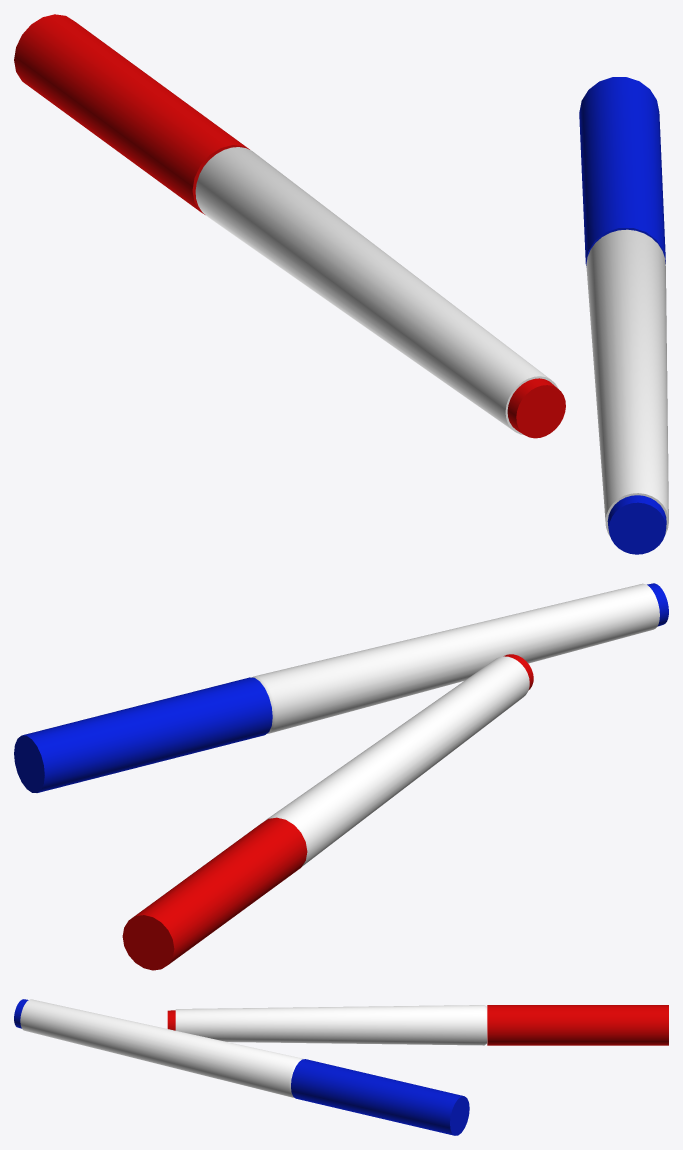
Rendered from Markers.FBX.
3 views of the same model, one above another, from view 1: azimuth 30°, elevation 25°; view 2: azimuth 150°, elevation 25°; view 3: azimuth 270°, elevation 25° (orthographic). The views are drawn at different scales.
Visible parts, largest first — view 1: Marker 1, Marker 2; view 2: Marker 2, Marker 1; view 3: Marker 1, Marker 2.
Boxes of the visible parts, bbox=[...] form: Marker 1: bbox=[14, 14, 565, 438]; Marker 2: bbox=[579, 77, 668, 554]; Marker 2: bbox=[14, 583, 668, 792]; Marker 1: bbox=[122, 654, 533, 970]; Marker 1: bbox=[167, 1005, 668, 1045]; Marker 2: bbox=[14, 999, 469, 1135].
Bounding box in the file's own units: 7.82 × 1.16 × 18.74.
1 material, 1 textured.
